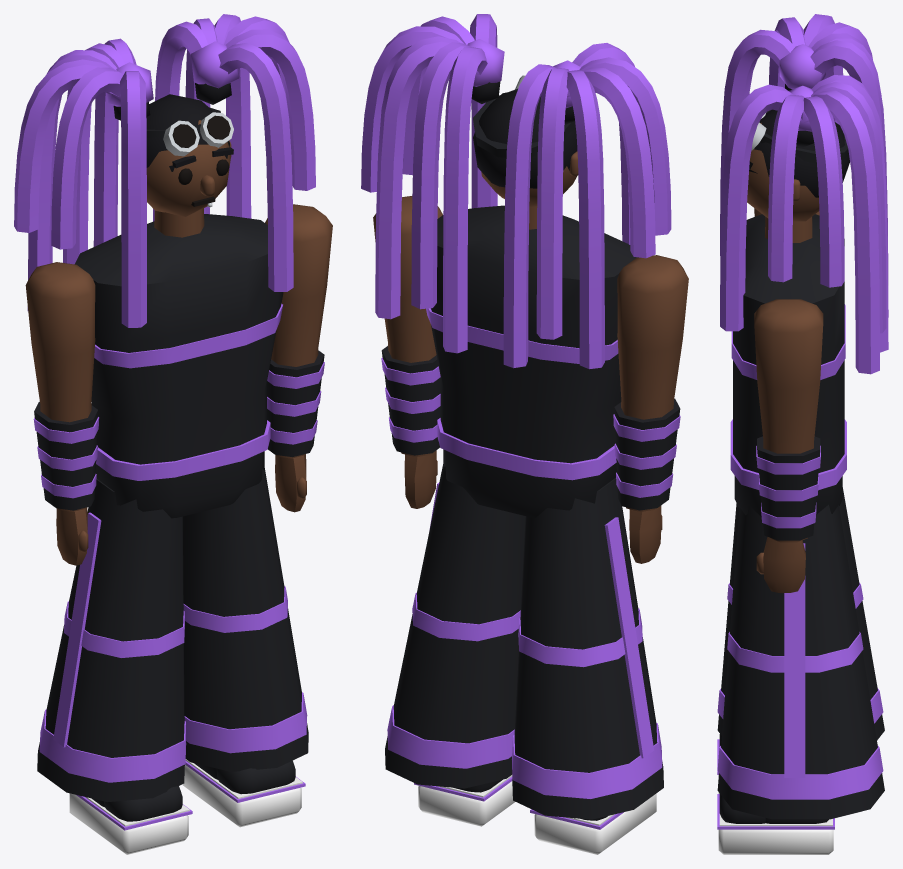
Rendered from npc4.glb.
3 renders of one model, left to right at view 1: azimuth 30°, elevation 25°; view 2: azimuth 150°, elevation 25°; view 3: azimuth 270°, elevation 25°, orthographic. The views are drawn at different scales.
Parts seen in each view (by area): view 1: HeadMesh, Body, LegLMesh, LegRMesh, ArmLMesh, ArmRMesh; view 2: HeadMesh, LegLMesh, Body, LegRMesh, ArmLMesh, ArmRMesh; view 3: LegRMesh, HeadMesh, ArmRMesh, Body, LegLMesh.
Part boxes in pixels (<box>): HeadMesh: <box>14,14,315,327</box>; Body: <box>75,214,283,518</box>; LegLMesh: <box>37,479,192,854</box>; LegRMesh: <box>182,468,308,827</box>; ArmLMesh: <box>25,262,99,565</box>; ArmRMesh: <box>265,204,332,512</box>; HeadMesh: <box>361,14,671,369</box>; LegLMesh: <box>512,478,663,854</box>; Body: <box>426,205,638,517</box>; LegRMesh: <box>385,464,525,826</box>; ArmLMesh: <box>613,255,688,563</box>; ArmRMesh: <box>373,196,442,508</box>; LegRMesh: <box>717,504,884,854</box>; HeadMesh: <box>720,14,888,374</box>; ArmRMesh: <box>754,299,823,592</box>; Body: <box>730,214,846,516</box>; LegLMesh: <box>717,487,884,793</box>.
Size of the model in its own units: 0.8001 by 1.99 by 0.409.
